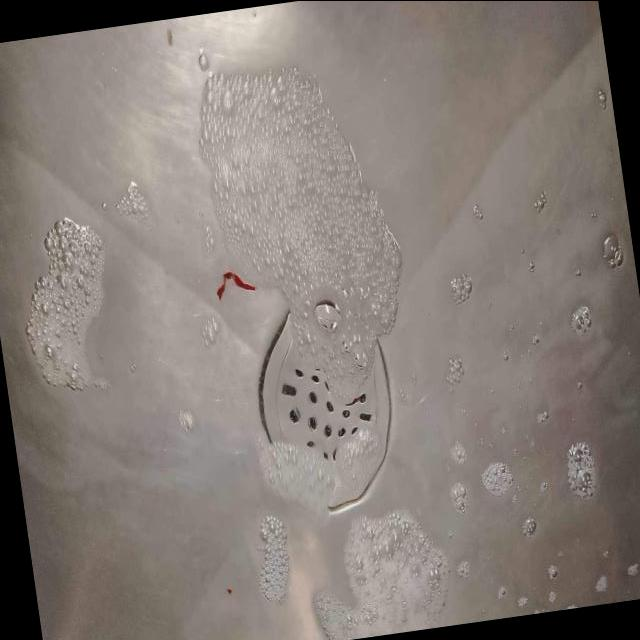General: (1, 3, 637, 639)
Infectious: (23, 216, 110, 392)
Sharps: (195, 63, 403, 515)
